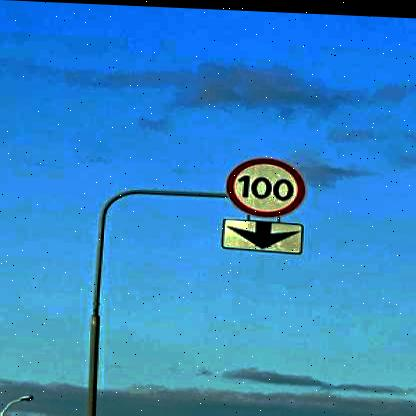Speed Limit -100-: (230, 154, 307, 219)
